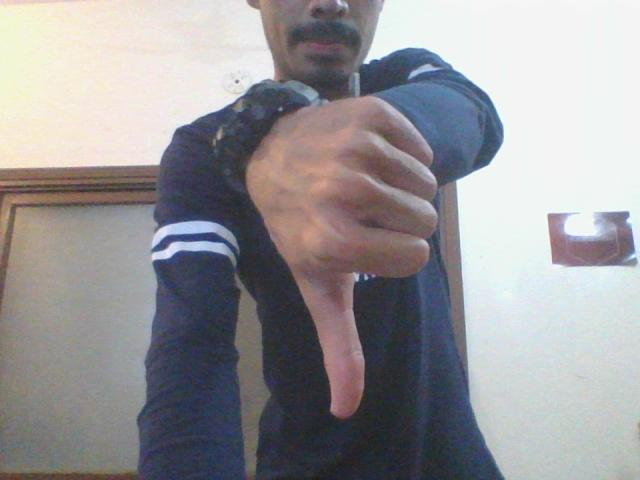thumbs-down: (279, 93, 449, 423)
